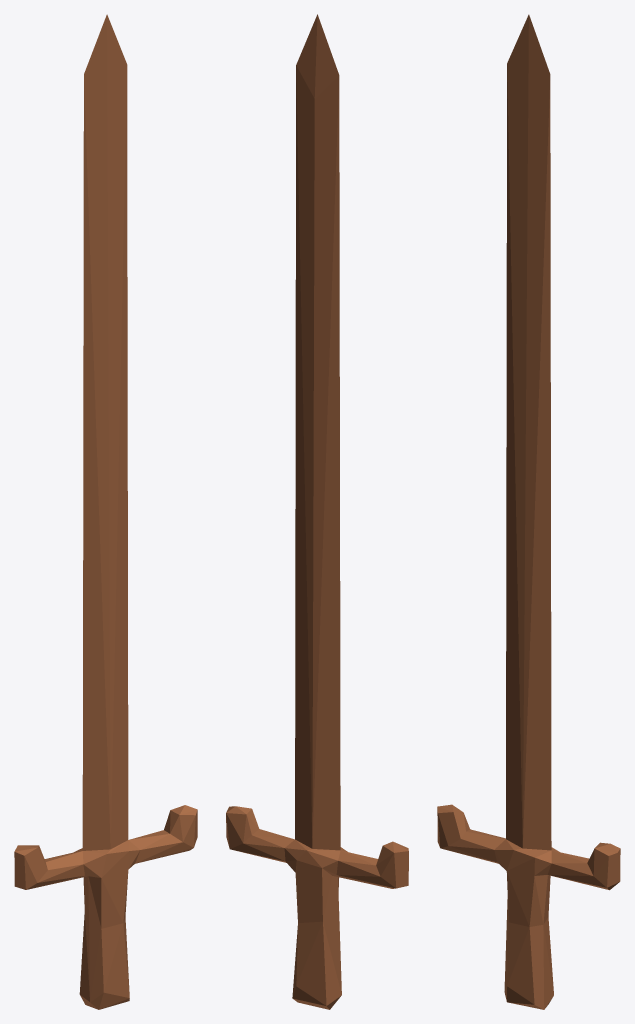
Rendered from SM_Sword_01.glb.
3 views of the same model, side by side, from view 1: azimuth 30°, elevation 25°; view 2: azimuth 150°, elevation 25°; view 3: azimuth 330°, elevation 25° (orthographic).
Visible parts, largest first — view 1: SM_Sword_01; view 2: SM_Sword_01; view 3: SM_Sword_01.
Part boxes in pixels (bbox=[...]): SM_Sword_01: bbox=[14, 14, 197, 1009]; SM_Sword_01: bbox=[226, 14, 408, 1009]; SM_Sword_01: bbox=[437, 14, 620, 1009].
Size of the model in its own units: 0.2307 by 1.19 by 0.0433.
